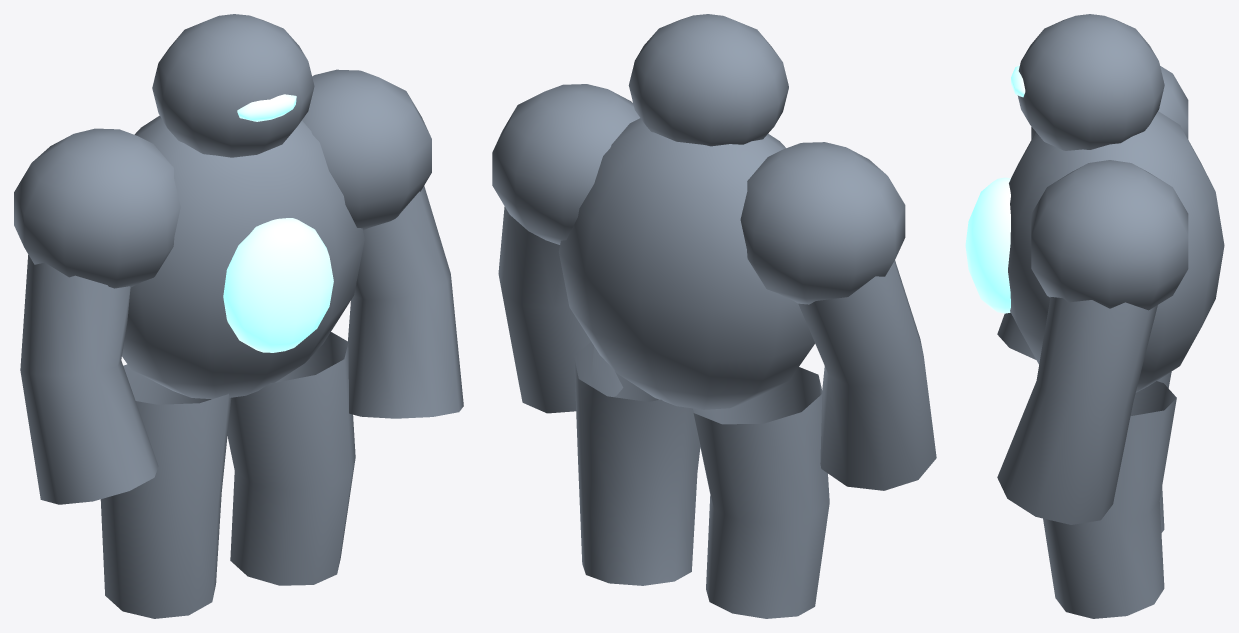
File: mon_golem.glb
The picture shows the model from 3 angles, left to right: view 1: azimuth 30°, elevation 25°; view 2: azimuth 150°, elevation 25°; view 3: azimuth 270°, elevation 25°; orthographic projection. The views are drawn at different scales.
Parts seen in each view (by area): view 1: golem_rock, golem_core; view 2: golem_rock; view 3: golem_rock, golem_core.
Part boxes in pixels (x1,y1,x2,y2): golem_rock: (14, 14, 463, 618); golem_core: (223, 94, 333, 352); golem_rock: (492, 14, 936, 618); golem_rock: (997, 14, 1224, 618); golem_core: (965, 65, 1025, 313).
Size of the model in its own units: 1.86 by 2.42 by 1.04.
